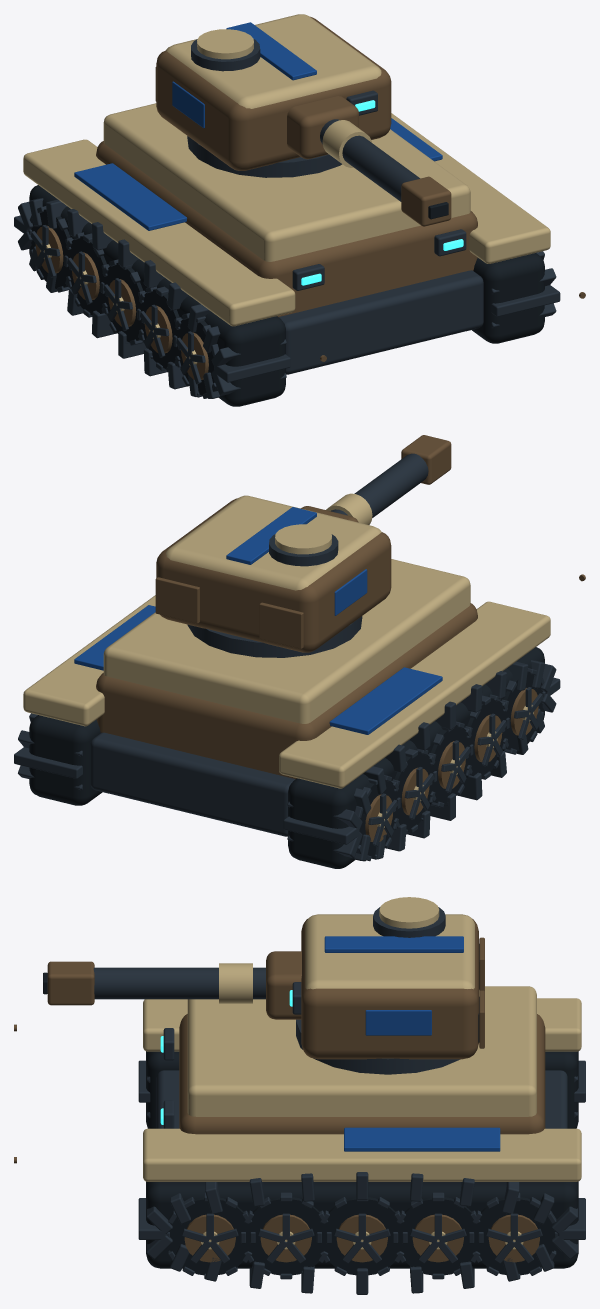
The model's file is tank-0.glb.
3 views of the same model, one above another, from view 1: azimuth 30°, elevation 25°; view 2: azimuth 150°, elevation 25°; view 3: azimuth 270°, elevation 25° (orthographic). The views are drawn at different scales.
Visible parts, largest first — view 1: CeramicHull_2, CeramicTrackGuard_139, HullBronze_1, TrackedChassis_0, TurretHousing_350, TurretCeramic_351, TrackCavity_3, CeramicTrackGuard_304, TrackCavity_168, GuardStripe_140, GunMantlet_369, Barrel_370 (+22 smaller); view 2: CeramicHull_2, HullBronze_1, CeramicTrackGuard_139, TrackedChassis_0, TurretHousing_350, TurretCeramic_351, TrackCavity_3, TrackCavity_168, CeramicTrackGuard_304, GuardStripe_140, Barrel_370, TurretBearing_349 (+20 smaller); view 3: CeramicHull_2, CeramicTrackGuard_304, TurretHousing_350, TurretCeramic_351, TrackCavity_168, HullBronze_1, Barrel_370, CeramicTrackGuard_139, GuardStripe_305, Tyre_250, Tyre_223, Tyre_196 (+19 smaller).
Part boxes in pixels (bbox=[...]): CeramicHull_2: bbox=[103, 103, 470, 261]; CeramicTrackGuard_139: bbox=[23, 139, 295, 326]; HullBronze_1: bbox=[96, 141, 477, 317]; TrackedChassis_0: bbox=[279, 270, 483, 374]; TurretHousing_350: bbox=[156, 16, 391, 170]; TurretCeramic_351: bbox=[166, 14, 381, 108]; TrackCavity_3: bbox=[29, 185, 285, 406]; CeramicTrackGuard_304: bbox=[391, 113, 550, 263]; TrackCavity_168: bbox=[472, 253, 544, 343]; GuardStripe_140: bbox=[74, 163, 187, 230]; GunMantlet_369: bbox=[287, 96, 358, 159]; Barrel_370: bbox=[320, 119, 420, 201]; CeramicHull_2: bbox=[103, 559, 470, 723]; HullBronze_1: bbox=[96, 603, 477, 779]; CeramicTrackGuard_139: bbox=[279, 601, 550, 788]; TrackedChassis_0: bbox=[90, 732, 295, 836]; TurretHousing_350: bbox=[156, 498, 391, 652]; TurretCeramic_351: bbox=[166, 495, 381, 590]; TrackCavity_3: bbox=[288, 647, 544, 868]; TrackCavity_168: bbox=[29, 715, 102, 805]; CeramicTrackGuard_304: bbox=[23, 595, 155, 726]; GuardStripe_140: bbox=[329, 667, 442, 734]; Barrel_370: bbox=[331, 453, 428, 517]; TurretBearing_349: bbox=[187, 616, 362, 657]; CeramicHull_2: bbox=[187, 986, 536, 1116]; CeramicTrackGuard_304: bbox=[143, 1128, 581, 1181]; TurretHousing_350: bbox=[301, 918, 478, 1059]; TurretCeramic_351: bbox=[305, 914, 474, 989]; TrackCavity_168: bbox=[146, 1181, 578, 1268]; HullBronze_1: bbox=[179, 1014, 545, 1134]; Barrel_370: bbox=[93, 967, 265, 999]; CeramicTrackGuard_139: bbox=[143, 998, 581, 1051]; GuardStripe_305: bbox=[344, 1127, 500, 1151]; Tyre_250: bbox=[244, 1197, 327, 1275]; Tyre_223: bbox=[320, 1197, 403, 1275]; Tyre_196: bbox=[396, 1197, 479, 1275].
Size of the model in its own units: 1.92 by 1.45 by 2.67.
